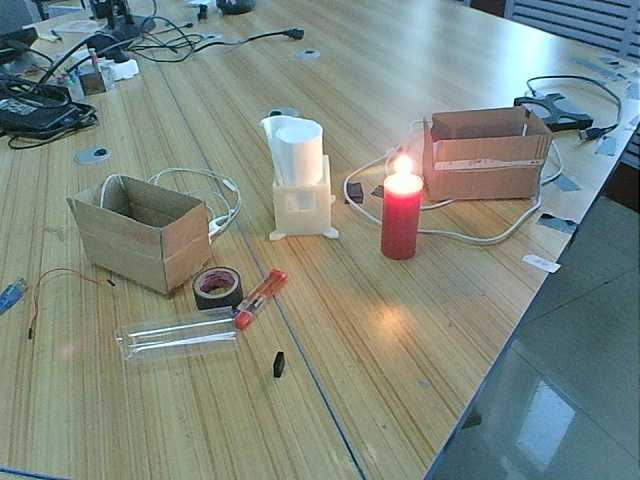candle: (374, 182, 426, 265)
fire: (384, 149, 421, 184)
